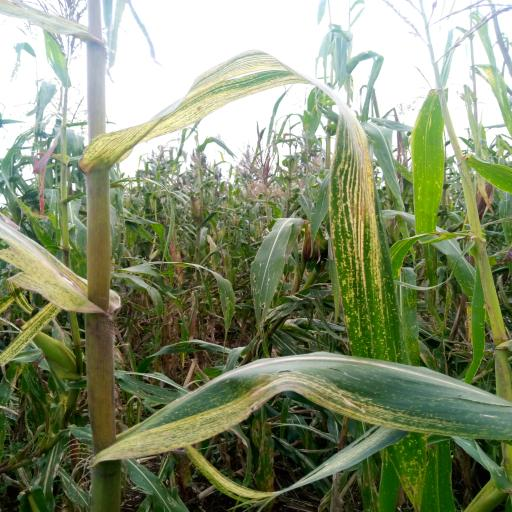Corn_Streak: (110, 50, 412, 341), (110, 346, 511, 467)
